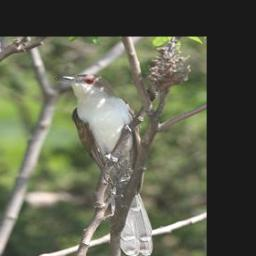Cuckoo: (55, 70, 157, 256)
